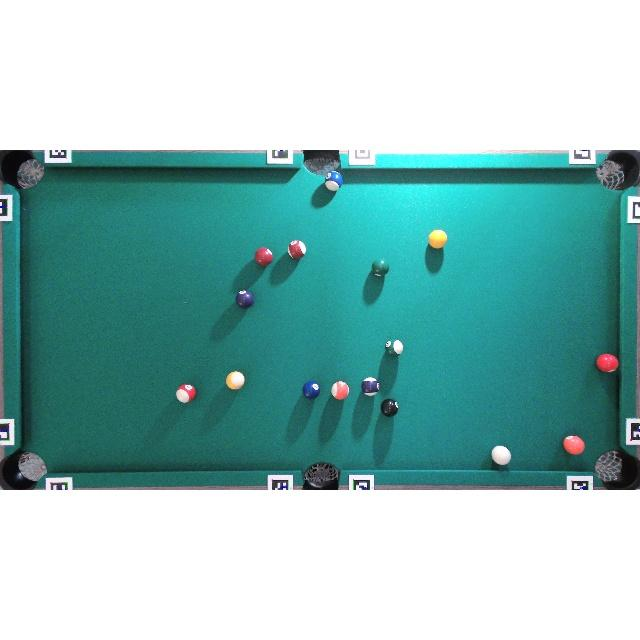cue ball: (491, 445, 512, 466)
other: (596, 353, 618, 373), (564, 435, 584, 455), (176, 384, 196, 403), (361, 377, 380, 396), (226, 370, 244, 390), (325, 171, 343, 191), (428, 230, 448, 248), (255, 247, 273, 266), (288, 240, 306, 258), (332, 381, 349, 400), (236, 290, 253, 308), (372, 259, 389, 277), (303, 381, 320, 398), (381, 399, 398, 416), (386, 339, 404, 355)
